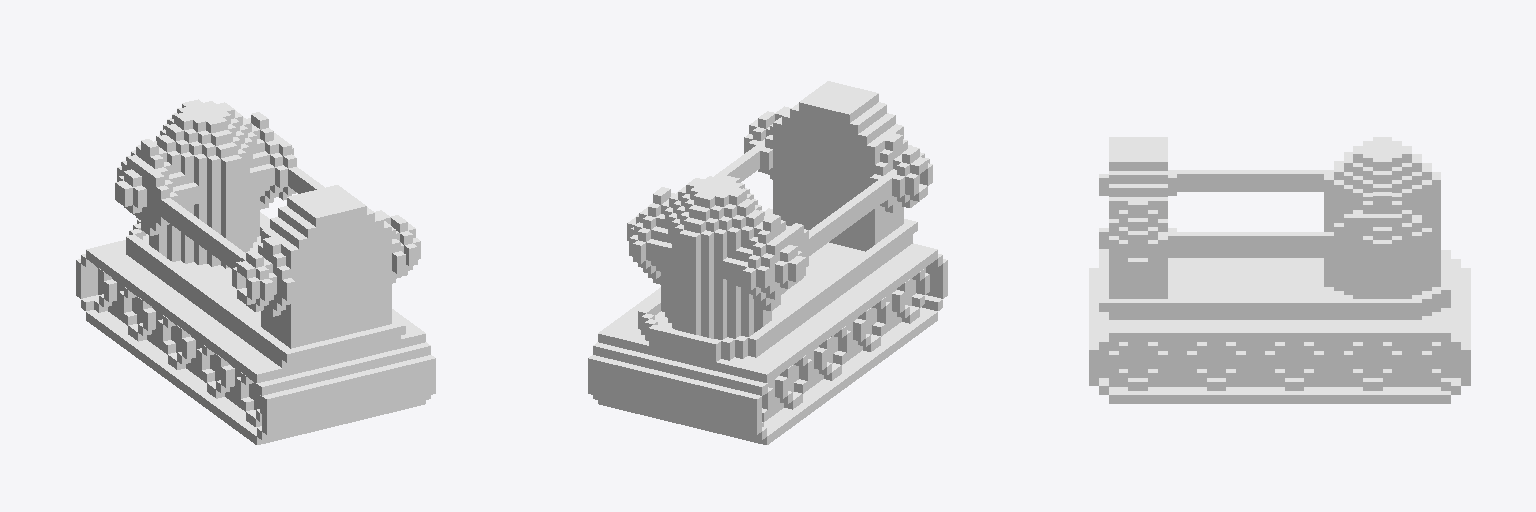
The model's file is bluePlayer.obj.
3 views of the same model, side by side, from view 1: azimuth 30°, elevation 25°; view 2: azimuth 150°, elevation 25°; view 3: azimuth 270°, elevation 25° (orthographic).
Parts seen in each view (by area): view 1: object 1; view 2: object 1; view 3: object 1.
Boxes of the visible parts, <box> form: object 1: <box>76,99,435,444</box>; object 1: <box>588,81,947,444</box>; object 1: <box>1089,137,1470,403</box>.
Size of the model in its own units: 2 by 2.4 by 3.9.